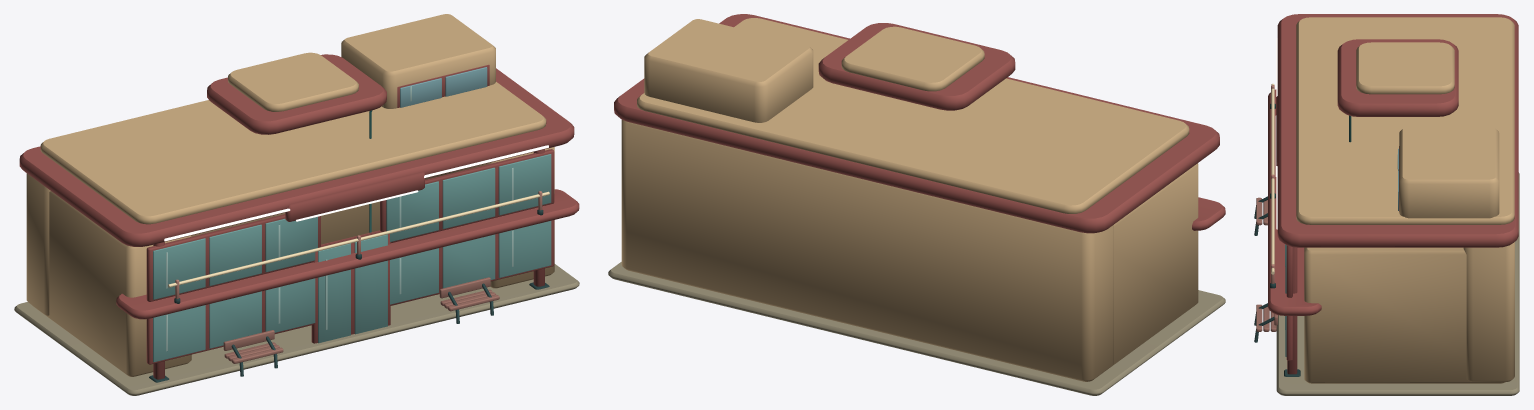
Rendered from route66_motel.glb.
The picture shows the model from 3 angles, left to right: view 1: azimuth 30°, elevation 25°; view 2: azimuth 150°, elevation 25°; view 3: azimuth 270°, elevation 25°; orthographic projection. The views are drawn at different scales.
Parts seen in each view (by area): view 1: Route66Motel; view 2: Route66Motel; view 3: Route66Motel.
Boxes of the visible parts, <box> form: Route66Motel: <box>14,14,579,395</box>; Route66Motel: <box>608,14,1225,395</box>; Route66Motel: <box>1254,14,1519,395</box>.
Bounding box in the file's own units: 13.08 × 6.03 × 6.57.
